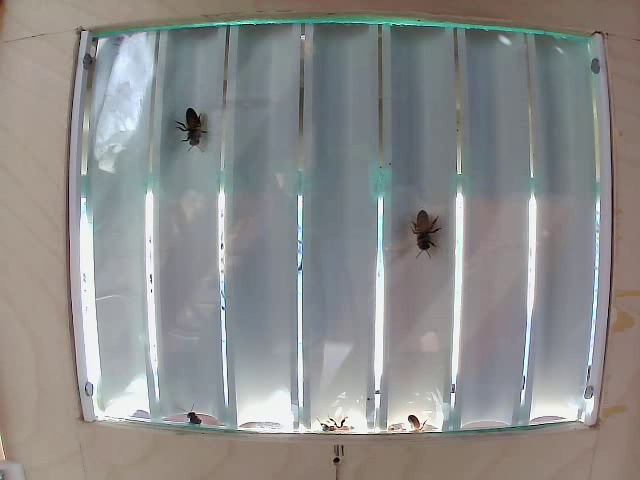bee: (399, 197, 451, 271), (169, 99, 209, 150)
